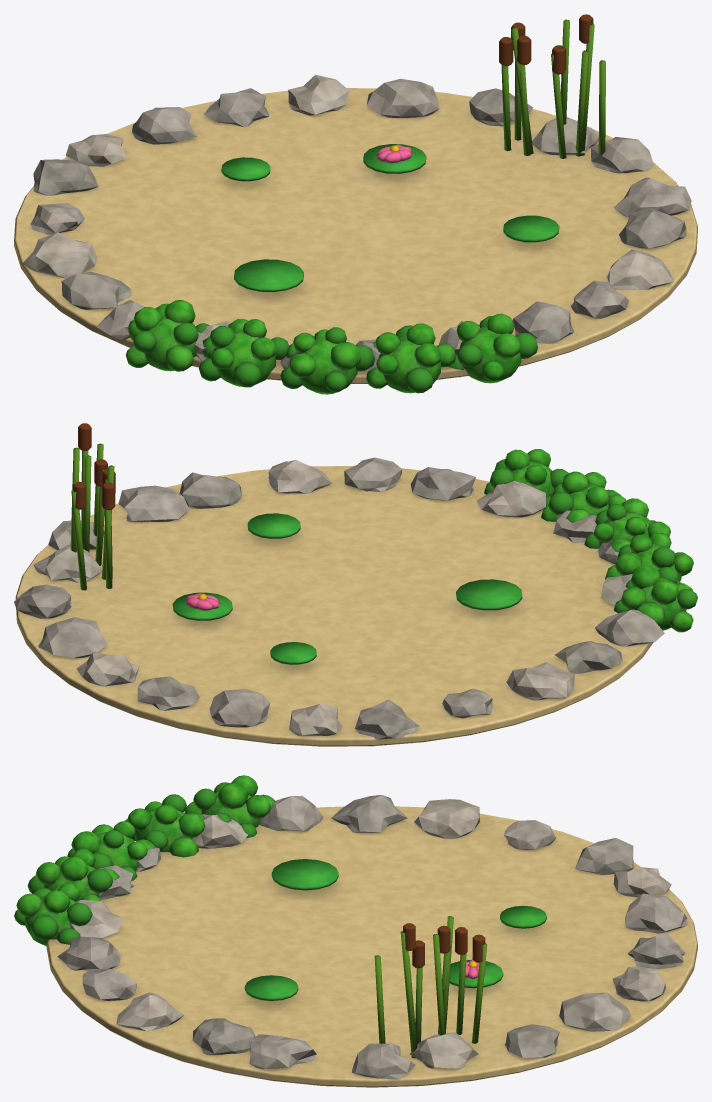
The model's file is pond.glb.
3 renders of one model, top to bottom at view 1: azimuth 30°, elevation 25°; view 2: azimuth 150°, elevation 25°; view 3: azimuth 270°, elevation 25°, orthographic. The views are drawn at different scales.
Parts seen in each view (by area): view 1: pond; view 2: pond; view 3: pond.
Part boxes in pixels (bbox=[...]): pond: bbox=[14, 14, 697, 394]; pond: bbox=[14, 423, 697, 746]; pond: bbox=[14, 775, 697, 1087].
Size of the model in its own units: 1.95 by 0.495 by 2.04.
Materials: 1 (1 with a texture image).
